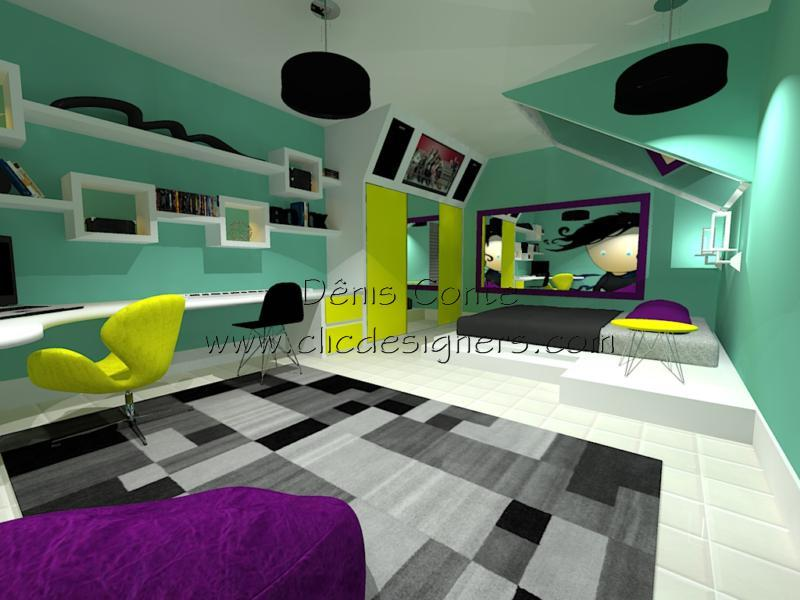chair: (21, 296, 195, 442), (228, 279, 311, 376)
diningtable: (610, 314, 697, 396)
person: (573, 212, 641, 294)
